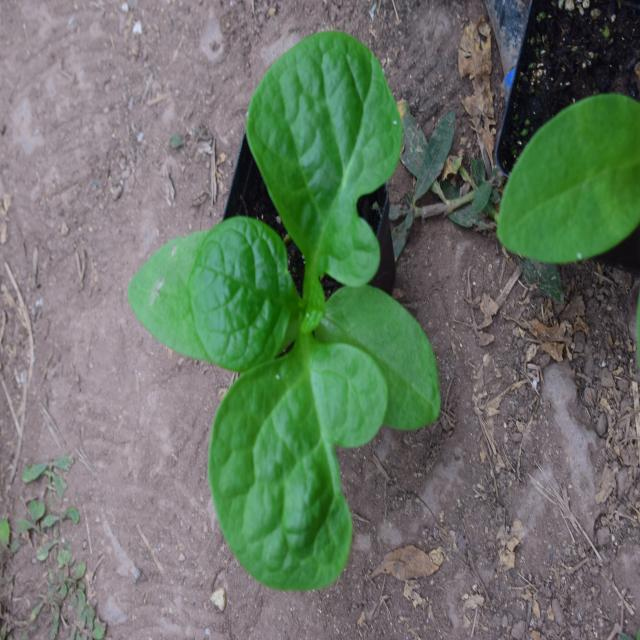Ceylon spinach: (150, 45, 468, 593)
